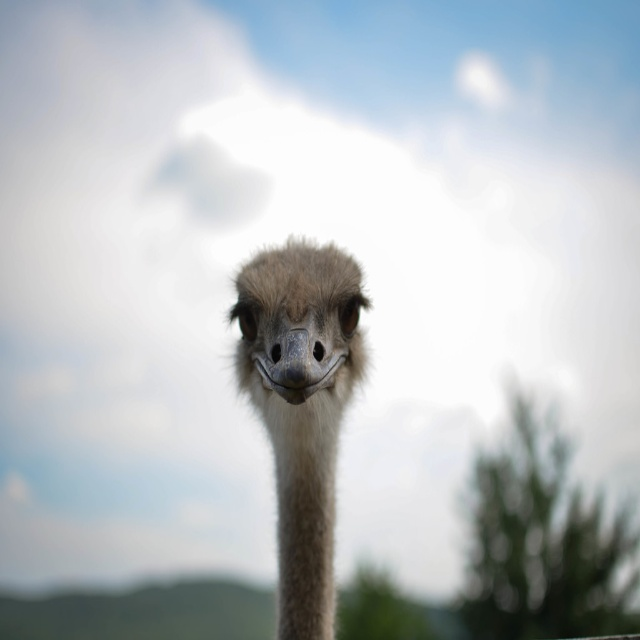Ostrich: (221, 246, 367, 636)
